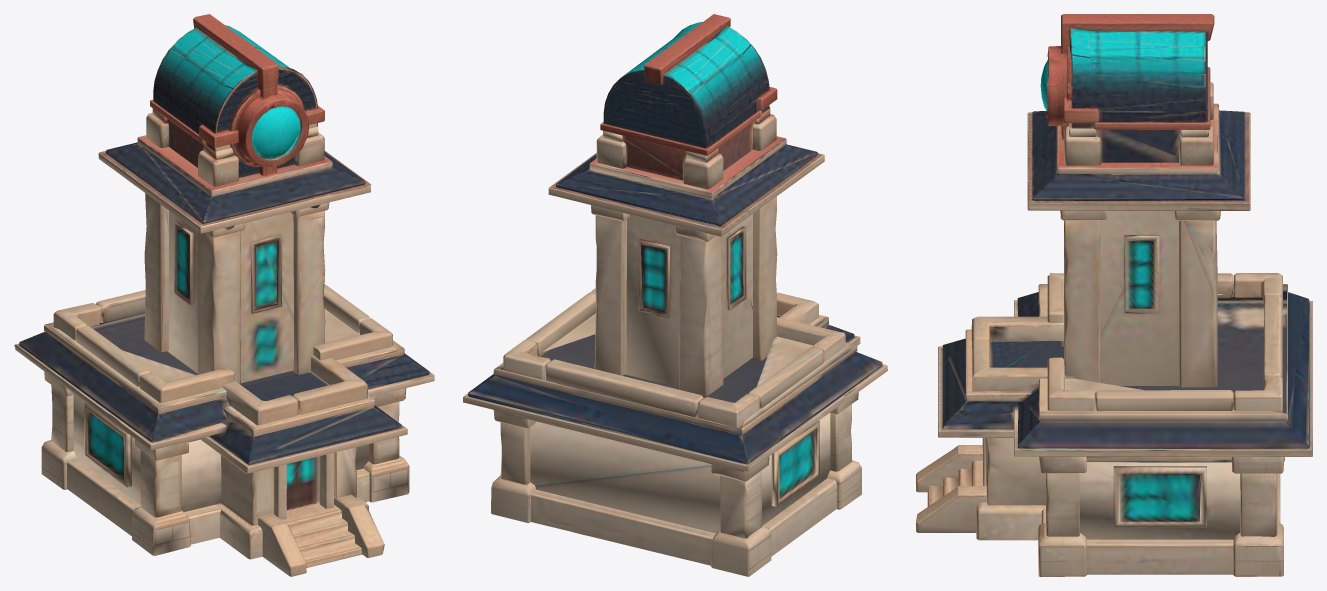
The model's file is observatory-map.glb.
3 views of the same model, side by side, from view 1: azimuth 30°, elevation 25°; view 2: azimuth 150°, elevation 25°; view 3: azimuth 270°, elevation 25° (orthographic). The views are drawn at different scales.
Bounding box in the file's own units: 1.32 × 2 × 1.46.
1 material, 1 textured.
